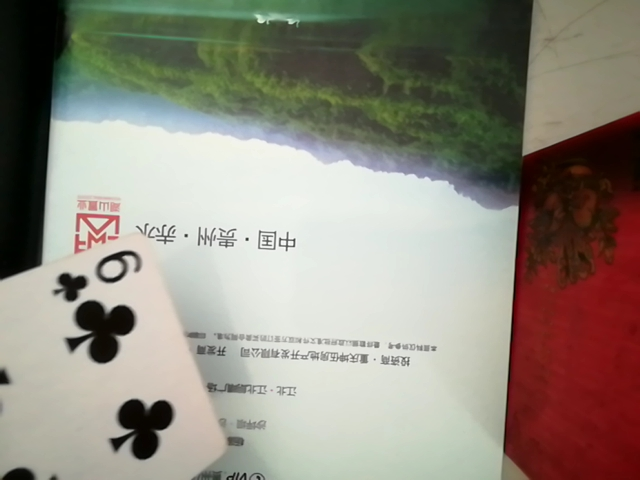mh 6: (2, 225, 232, 480)
